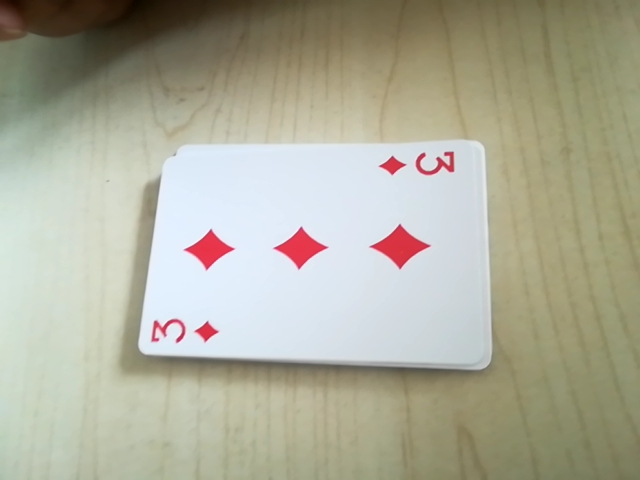fk 3: (373, 142, 463, 188), (145, 309, 226, 353)
